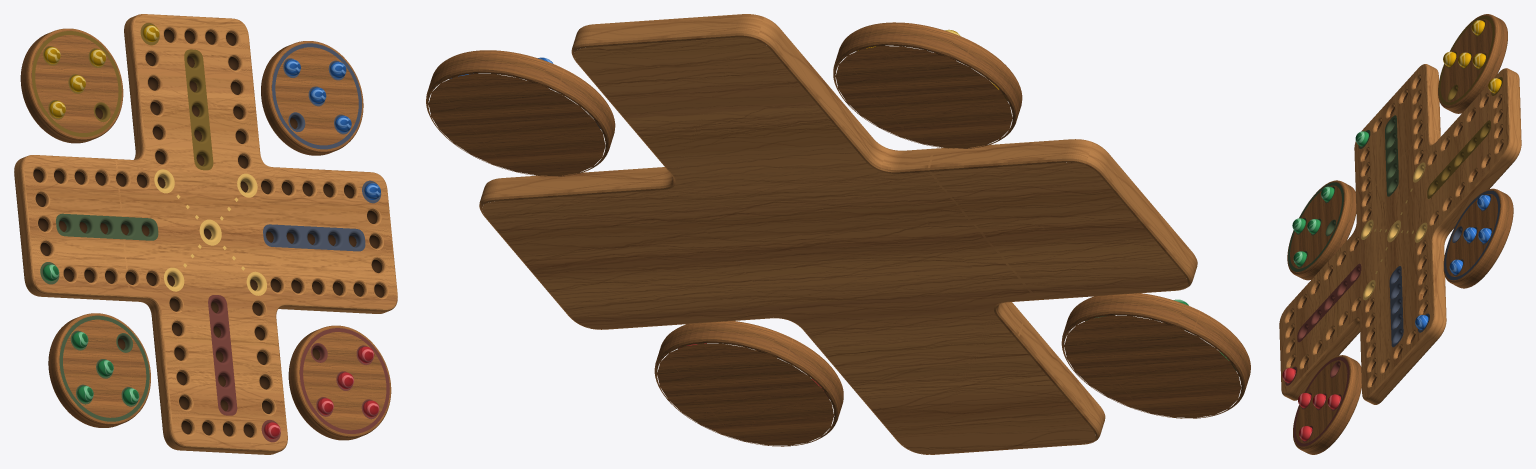
The model's file is marralhinha-7658bf31c4.glb.
3 renders of one model, left to right at view 1: azimuth 30°, elevation 25°; view 2: azimuth 150°, elevation 25°; view 3: azimuth 270°, elevation 25°, orthographic. The views are drawn at different scales.
Size of the model in its own units: 5.22 by 4.74 by 3.03.
24 materials, 6 textured.
